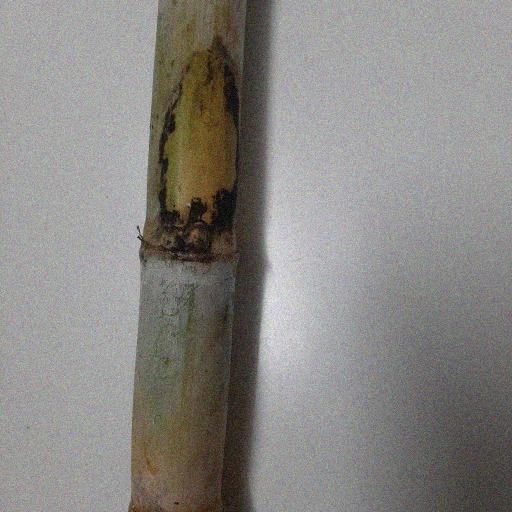Bud: (181, 220, 211, 253)
